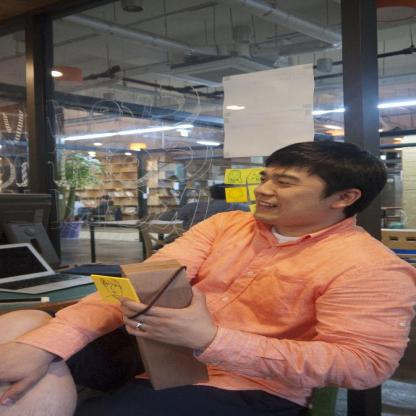board: (0, 243, 94, 296)
